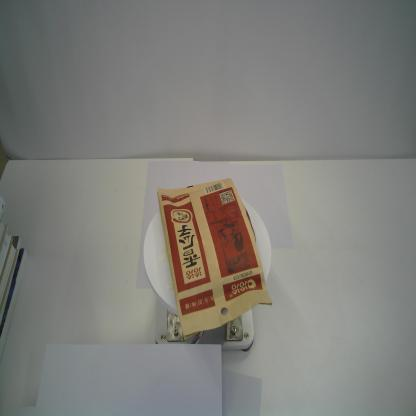Dried Food: (156, 176, 274, 342)
